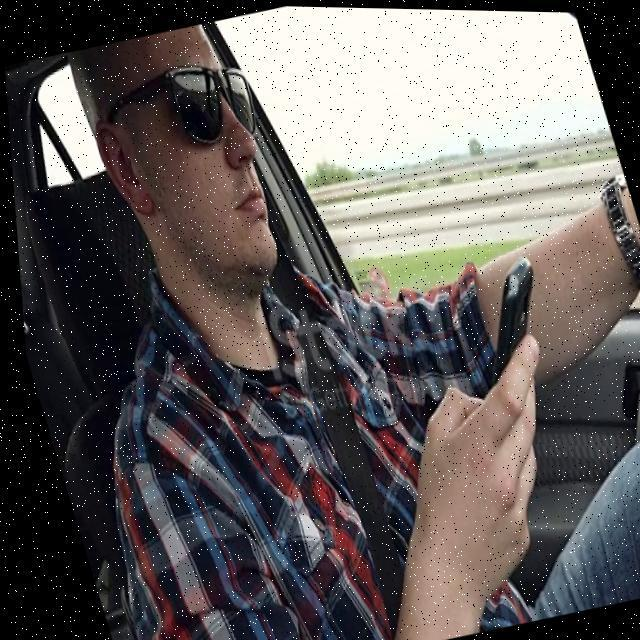PhoneCall: (446, 250, 560, 392)
